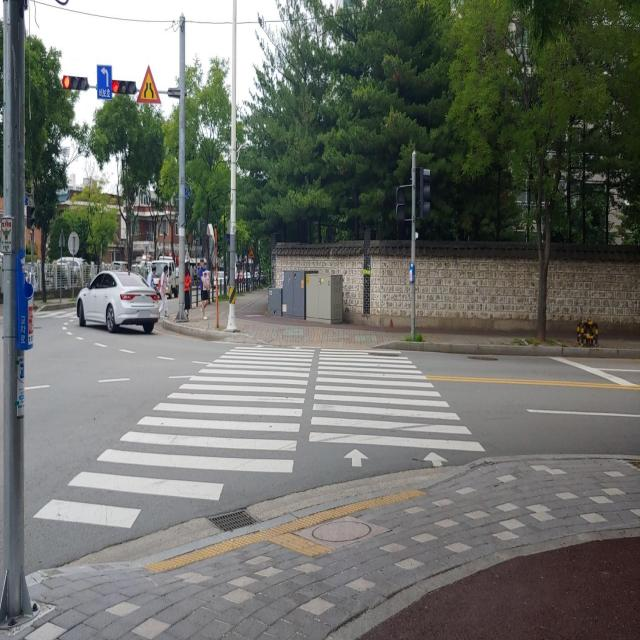횡단보도: (33, 344, 486, 532)
